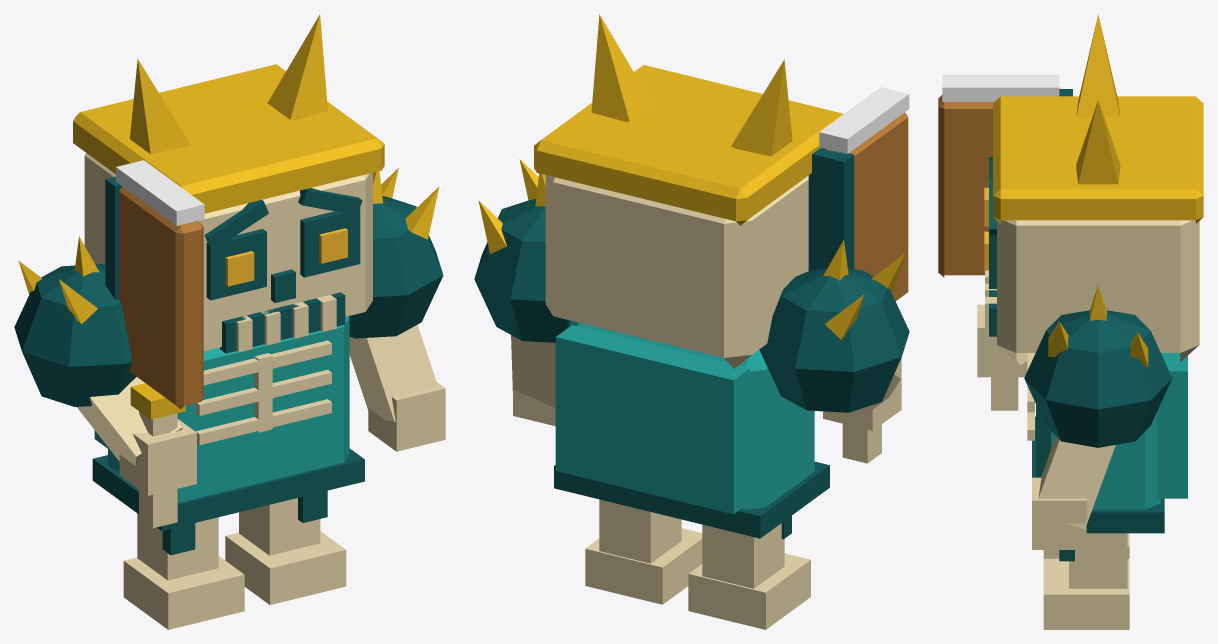
The model's file is warlord_r5.glb.
3 views of the same model, side by side, from view 1: azimuth 30°, elevation 25°; view 2: azimuth 150°, elevation 25°; view 3: azimuth 270°, elevation 25° (orthographic). The views are drawn at different scales.
Parts seen in each view (by area): view 1: warlord_r5_mesh; view 2: warlord_r5_mesh; view 3: warlord_r5_mesh.
Part boxes in pixels (x1,y1,x2,y2): warlord_r5_mesh: (14, 14, 445, 629); warlord_r5_mesh: (474, 14, 909, 629); warlord_r5_mesh: (938, 14, 1203, 629).
Bounding box in the file's own units: 2.83 × 3.6 × 1.63.
Materials: 1 (1 with a texture image).
